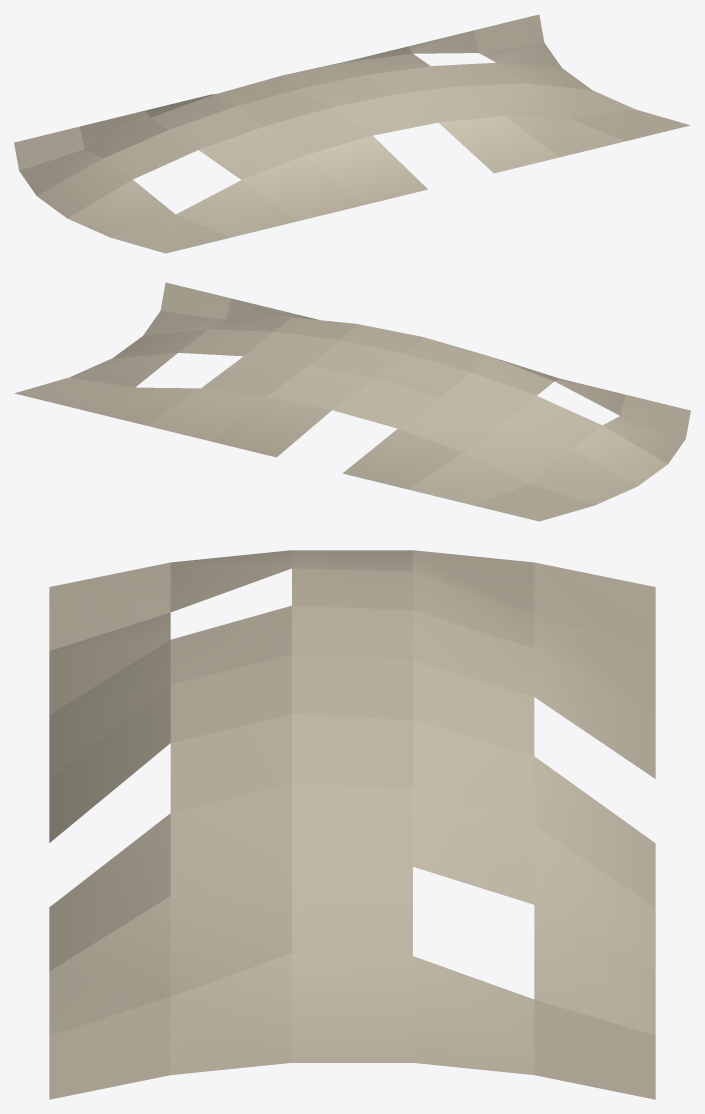
File: drift_0.glb
The picture shows the model from 3 angles, top to bottom: view 1: azimuth 30°, elevation 25°; view 2: azimuth 150°, elevation 25°; view 3: azimuth 270°, elevation 25°; orthographic projection. The views are drawn at different scales.
Parts seen in each view (by area): view 1: drift_0; view 2: drift_0; view 3: drift_0.
Boxes of the visible parts, left/top/right/bottom form: drift_0: left=14, top=14, right=690, bottom=253; drift_0: left=14, top=282, right=690, bottom=521; drift_0: left=49, top=550, right=655, bottom=1099.
Size of the model in its own units: 8.58 by 0.6732 by 4.
